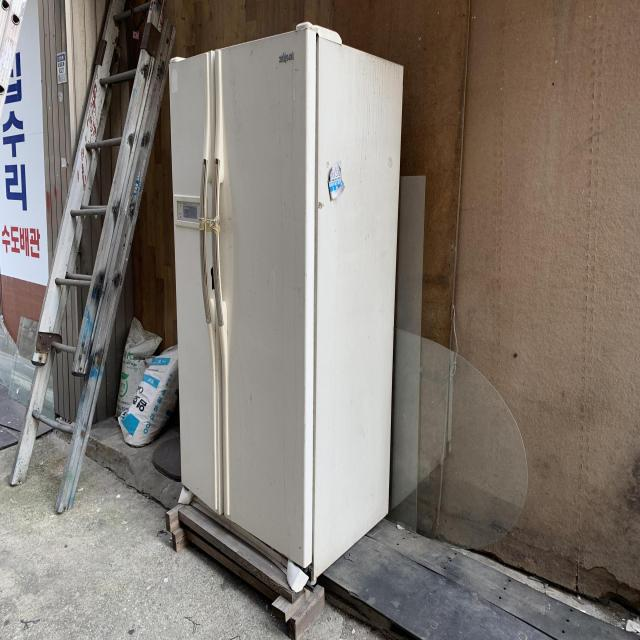refrigerator: (168, 22, 406, 588)
